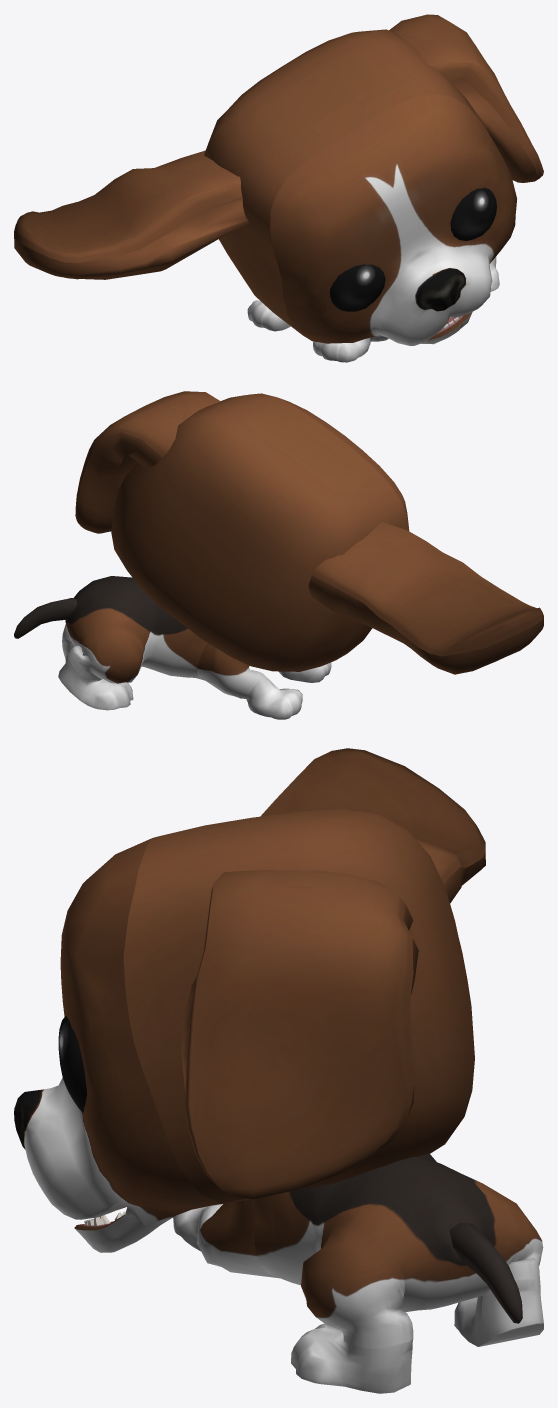
The model's file is example_glb_file.glb.
3 views of the same model, one above another, from view 1: azimuth 30°, elevation 25°; view 2: azimuth 150°, elevation 25°; view 3: azimuth 270°, elevation 25° (orthographic). The views are drawn at different scales.
Parts seen in each view (by area): view 1: Node1; view 2: Node1; view 3: Node1.
Part boxes in pixels (x1,y1,x2,y2): Node1: (14,14,543,362); Node1: (14,391,543,719); Node1: (14,748,543,1393).
Bounding box in the file's own units: 16.47 × 8.81 × 9.23.
1 material, 1 textured.
